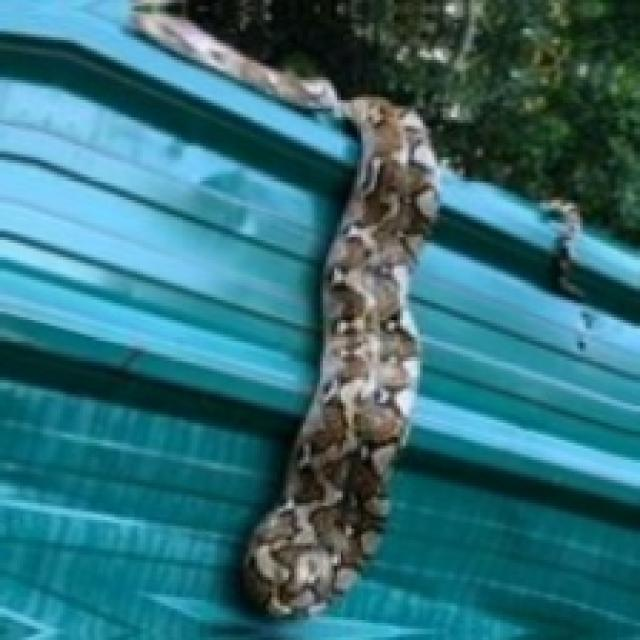reticulated python: (134, 11, 437, 614), (243, 97, 434, 614)
